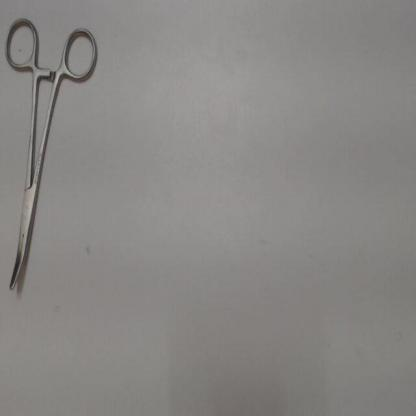Crile Artery Forceps: (3, 12, 102, 299)
